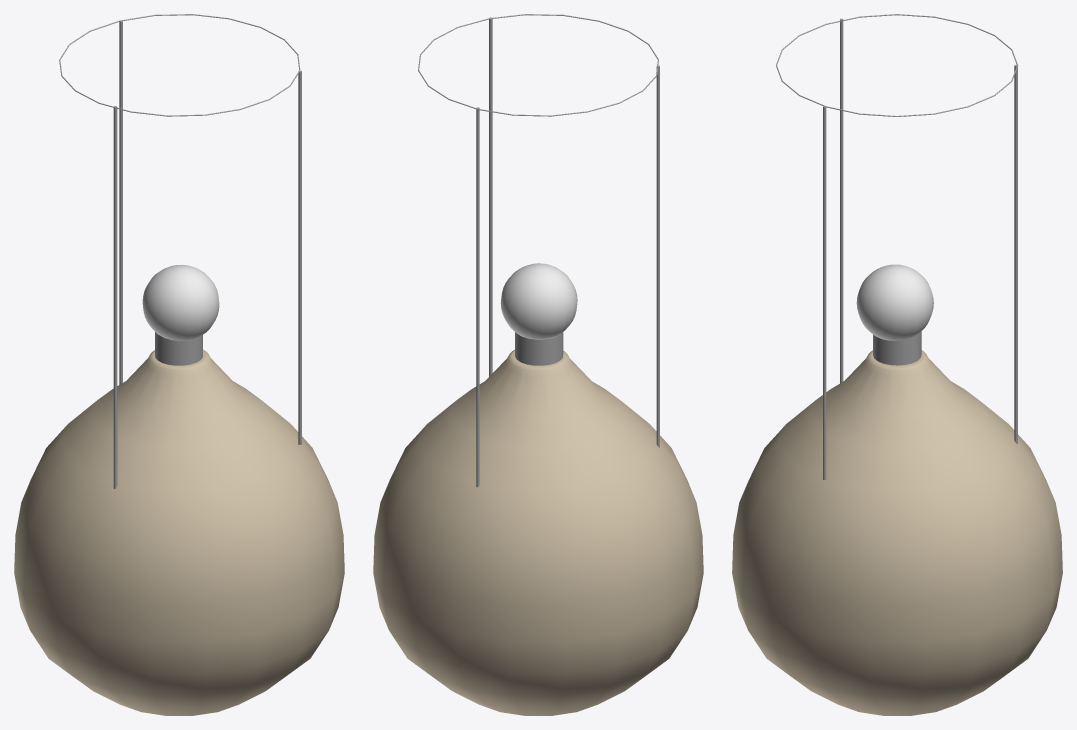
File: BedLamp.fbx
3 renders of one model, left to right at view 1: azimuth 30°, elevation 25°; view 2: azimuth 150°, elevation 25°; view 3: azimuth 270°, elevation 25°, orthographic.
Parts seen in each view (by area): view 1: nurbsToPoly2, pCylinder5, pSphere1; view 2: nurbsToPoly2, pCylinder5, pSphere1; view 3: nurbsToPoly2, pCylinder5, pSphere1.
Boxes of the visible parts, box(x1,y1,x2,y2) form: nurbsToPoly2: box(14, 349, 344, 715); pCylinder5: box(59, 14, 301, 489); pSphere1: box(142, 265, 219, 341); nurbsToPoly2: box(373, 350, 703, 715); pCylinder5: box(418, 14, 659, 487); pSphere1: box(500, 263, 577, 338); nurbsToPoly2: box(732, 350, 1062, 715); pCylinder5: box(776, 14, 1018, 479); pSphere1: box(856, 264, 933, 340).
Bounding box in the file's own units: 5.32 × 11.3 × 5.4.
